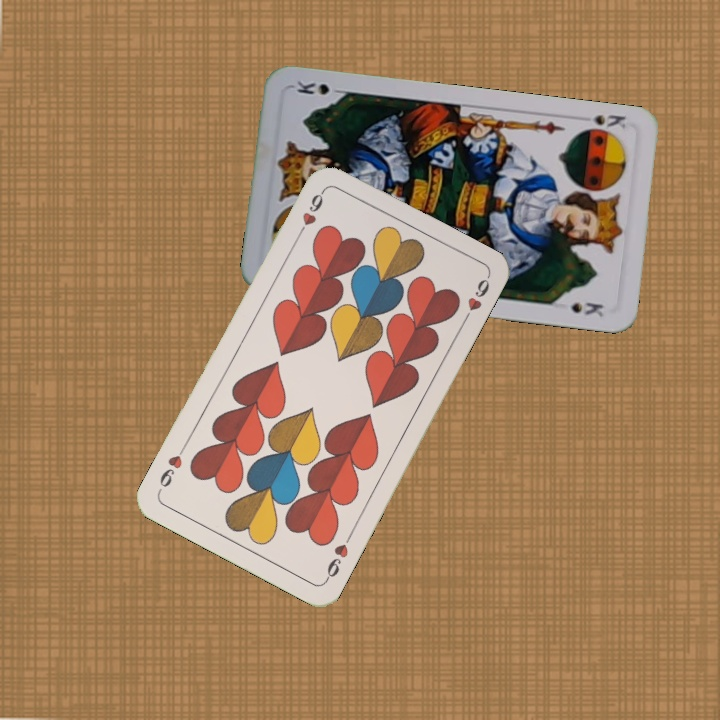H9: (321, 530, 355, 584), (293, 186, 327, 240)
SK: (575, 110, 628, 131)
